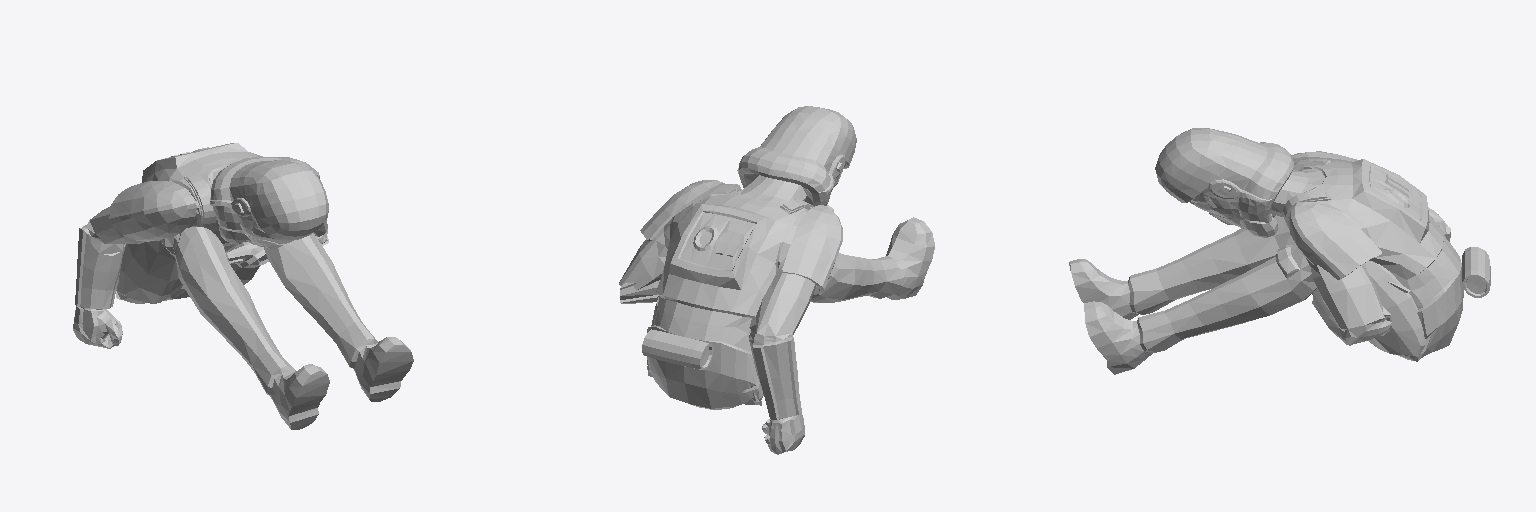
Rendered from Dead56.obj.
The picture shows the model from 3 angles: view 1: azimuth 30°, elevation 25°; view 2: azimuth 150°, elevation 25°; view 3: azimuth 270°, elevation 25°; orthographic projection.
Parts seen in each view (by area): view 1: Stormtrooper.001_Stormtrooper; view 2: Stormtrooper.001_Stormtrooper; view 3: Stormtrooper.001_Stormtrooper.
Boxes of the visible parts, x1=… form: Stormtrooper.001_Stormtrooper: x1=73, y1=143, x2=413, y2=429; Stormtrooper.001_Stormtrooper: x1=619, y1=106, x2=934, y2=454; Stormtrooper.001_Stormtrooper: x1=1069, y1=128, x2=1490, y2=374.
Bounding box in the file's own units: 1.37 × 1.46 × 2.35.